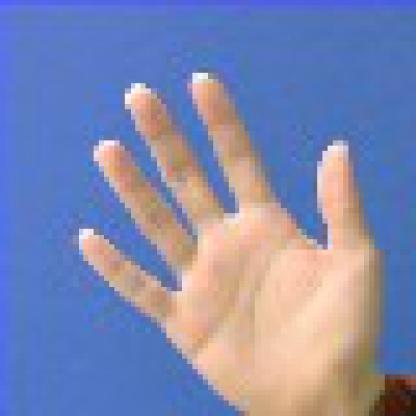five: (57, 62, 411, 411)
